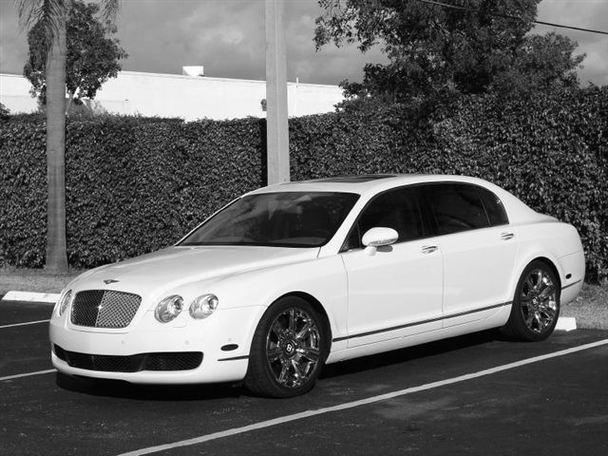car: (48, 170, 589, 404)
